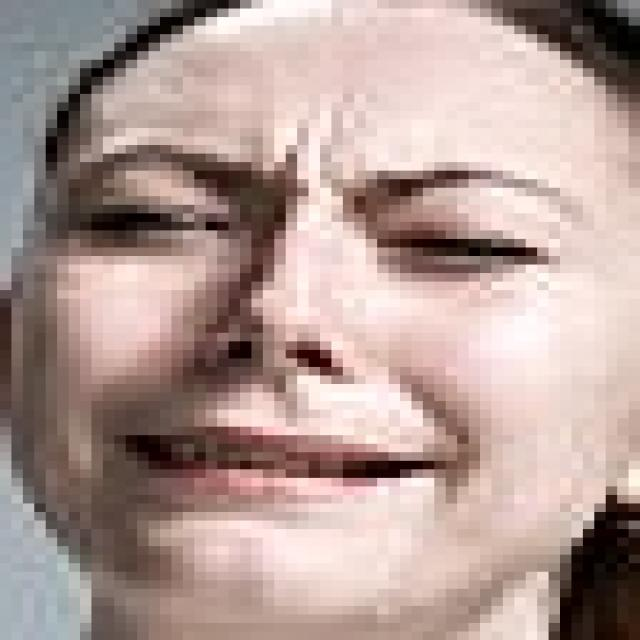Anxiety: (11, 0, 629, 631)
